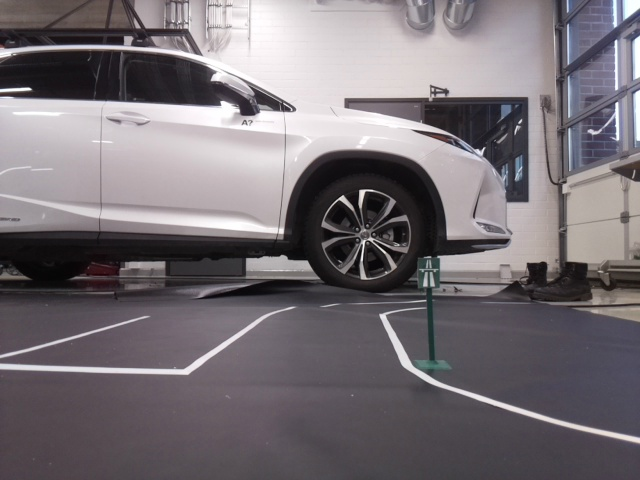HighwayEntrance: (417, 258, 438, 287)
